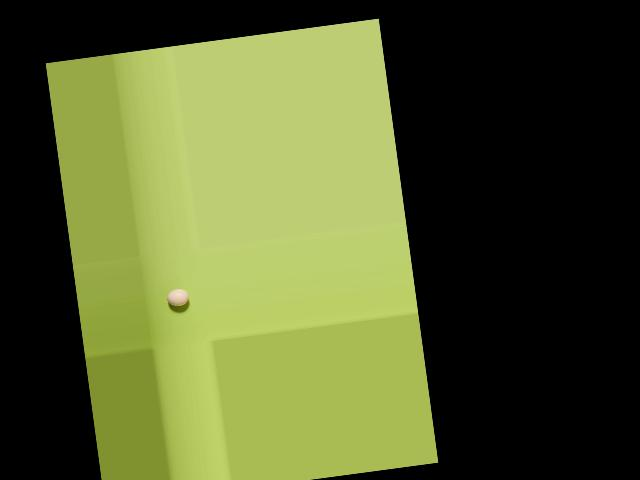egg: (165, 288, 189, 307)
